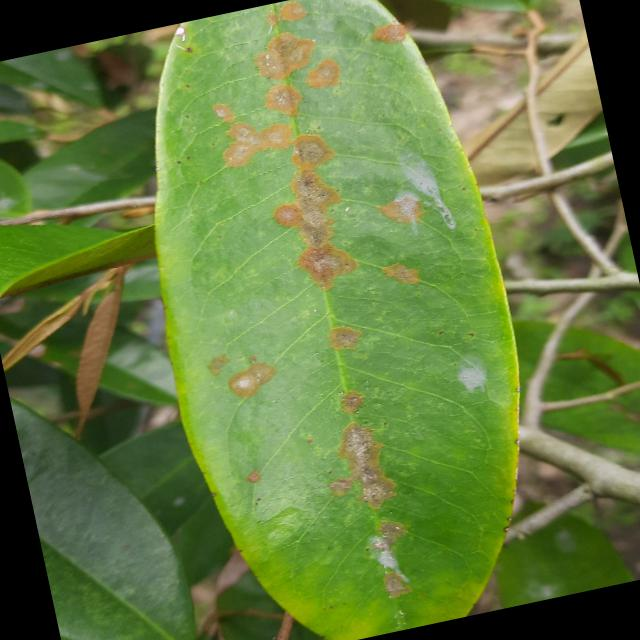Algal Leaf Spot: (95, 0, 572, 639)
